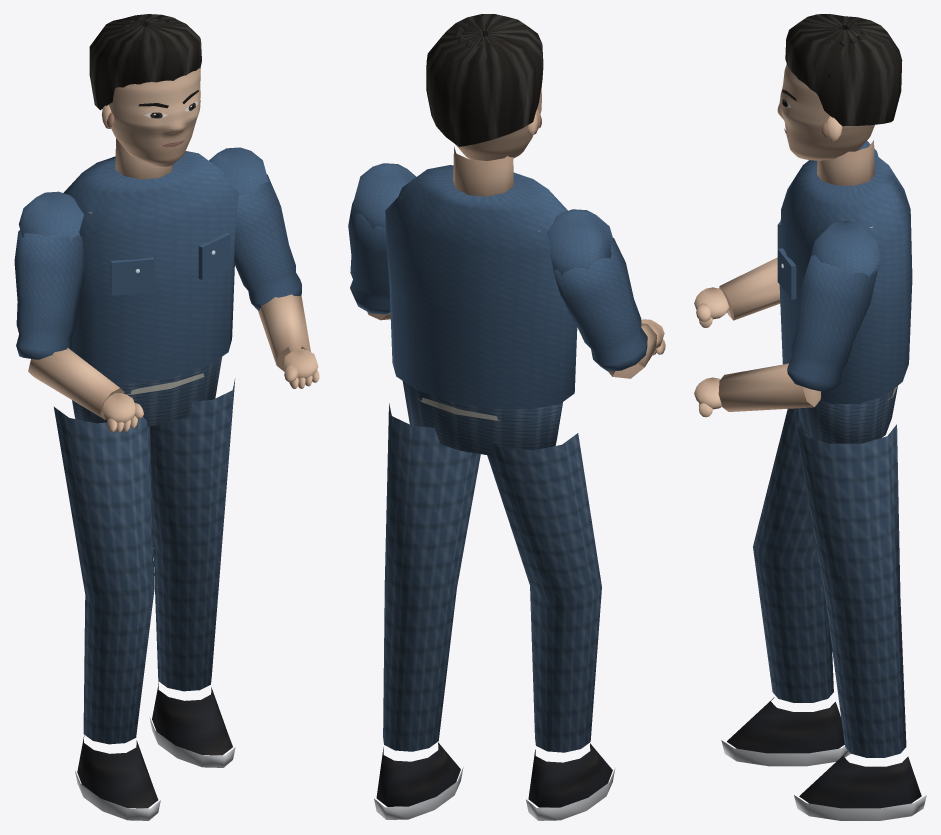
The model's file is HERO-03_kolya-standing.glb.
3 renders of one model, left to right at view 1: azimuth 30°, elevation 25°; view 2: azimuth 150°, elevation 25°; view 3: azimuth 270°, elevation 25°, orthographic. The views are drawn at different scales.
Parts seen in each view (by area): view 1: kolya · soles; view 2: kolya · soles; view 3: kolya · soles.
Part boxes in pixels (x1,y1,x2,y2): kolya · soles: (14, 14, 319, 820); kolya · soles: (348, 14, 665, 820); kolya · soles: (694, 14, 926, 820).
Size of the model in its own units: 0.6617 by 1.68 by 0.4701.
2 materials, 2 textured.
